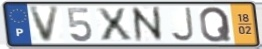5: (66, 6, 94, 43)
J: (169, 6, 196, 43)
N: (129, 5, 166, 44)
Q: (198, 6, 233, 44)
V: (28, 5, 63, 44)
X: (94, 7, 134, 42)
